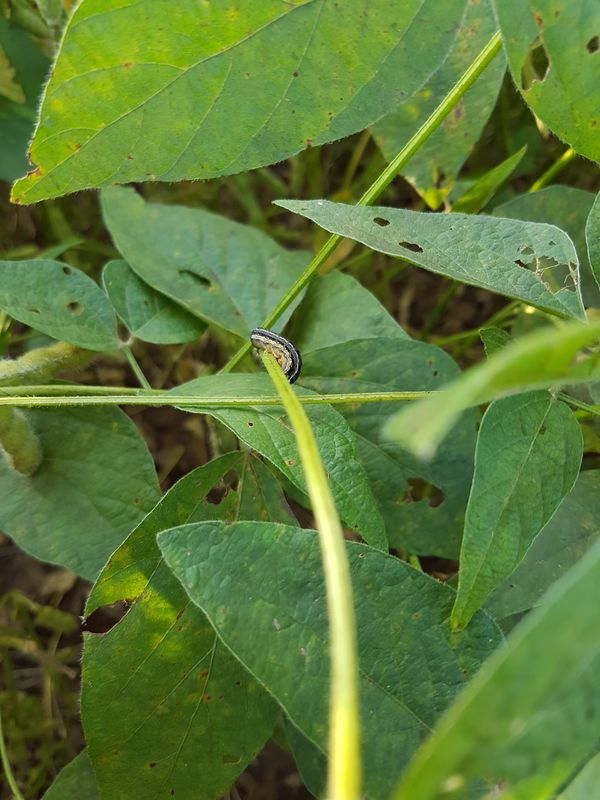Spodoptera_albula: (238, 320, 316, 396)
